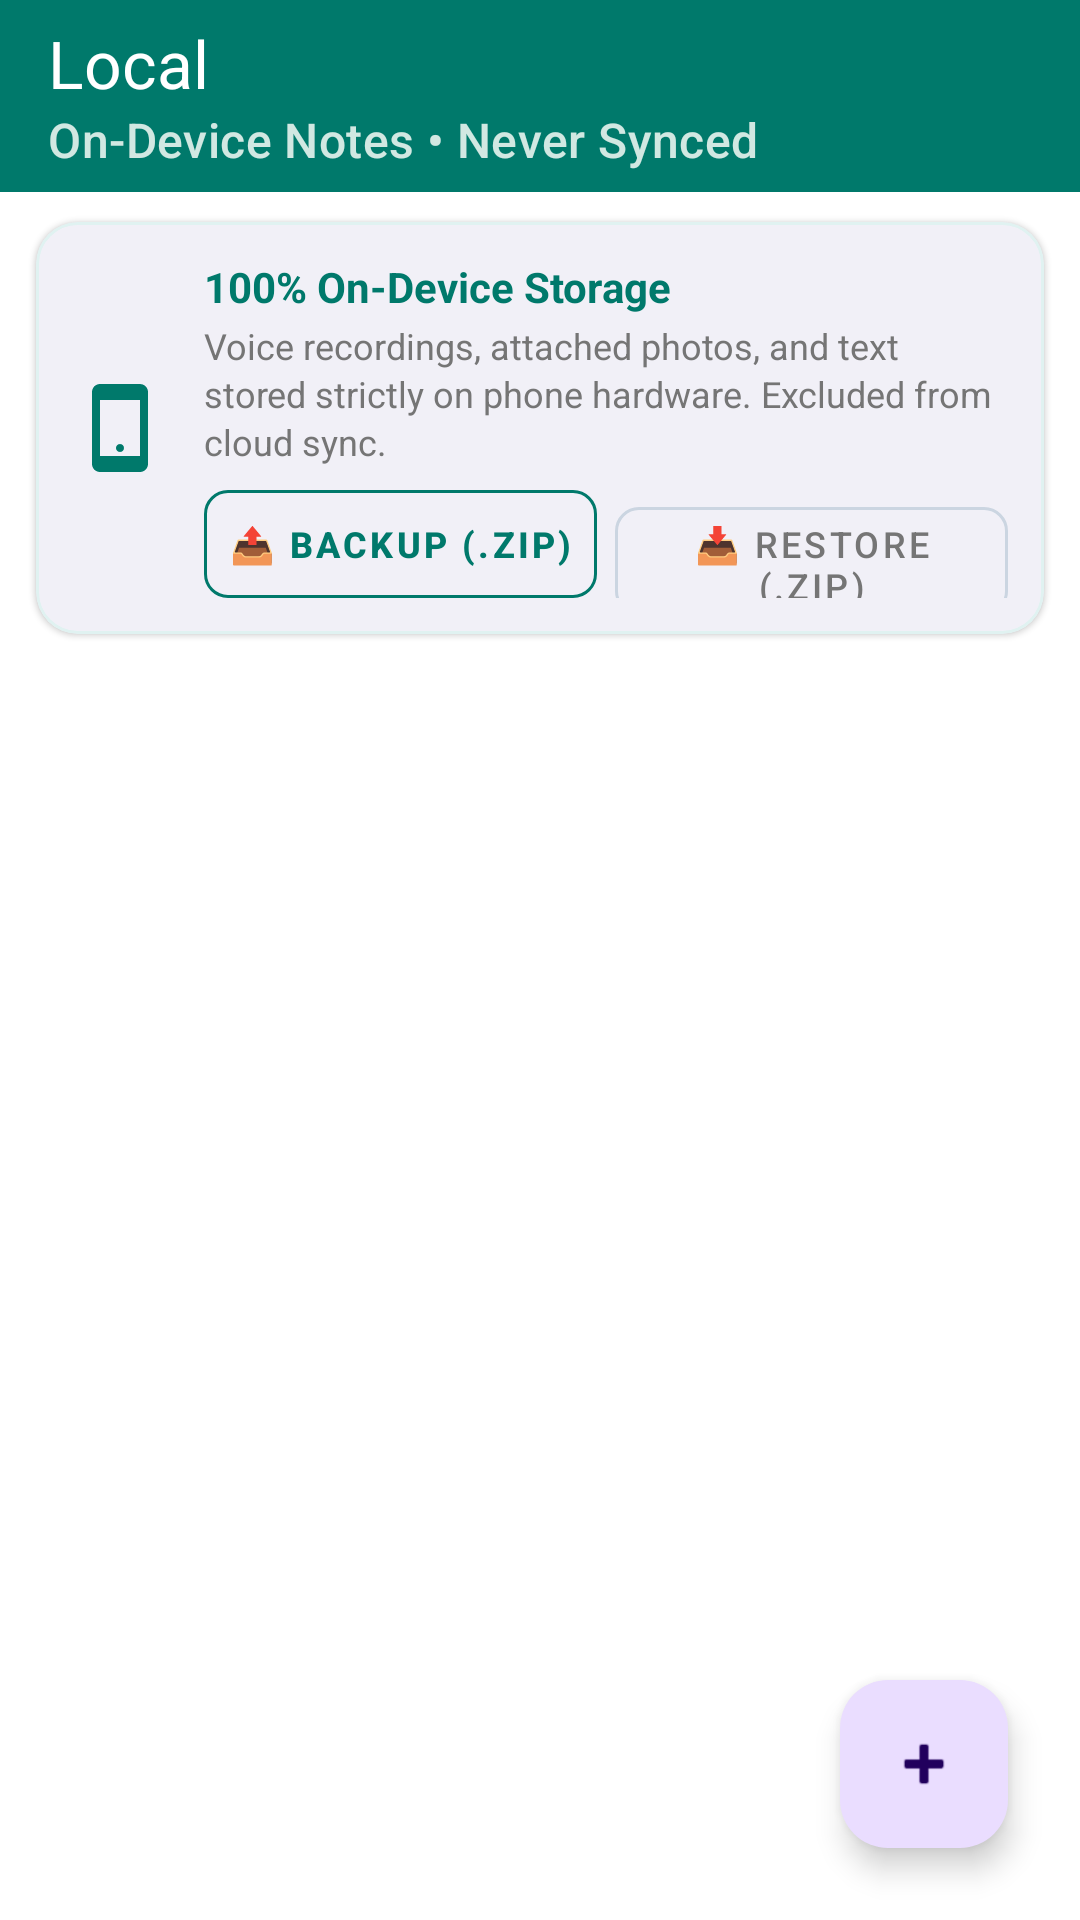

Icon bounding boxes for this 1080px×1920px phone screenshot, format box(x1, y1, x2, y2):
Add Local Note: box(840, 1680, 1008, 1848)
Local Info: box(92, 384, 148, 472)
